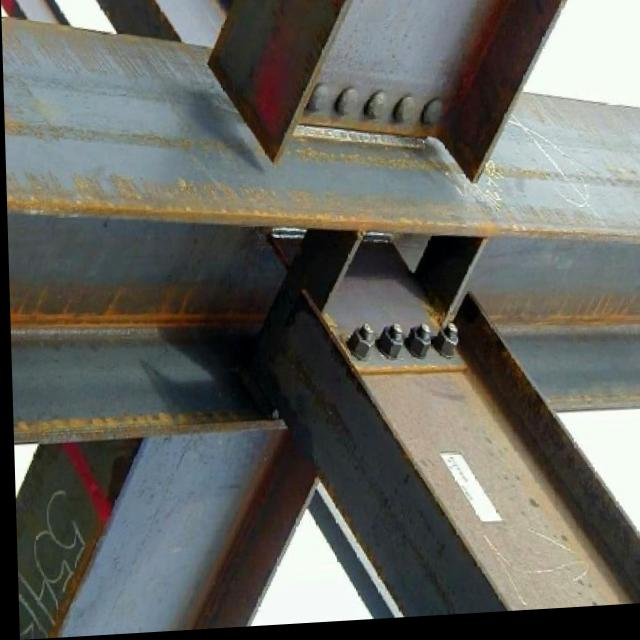Regular bolt: (396, 322, 432, 378), (430, 323, 465, 366), (376, 325, 403, 370), (341, 332, 374, 366)
